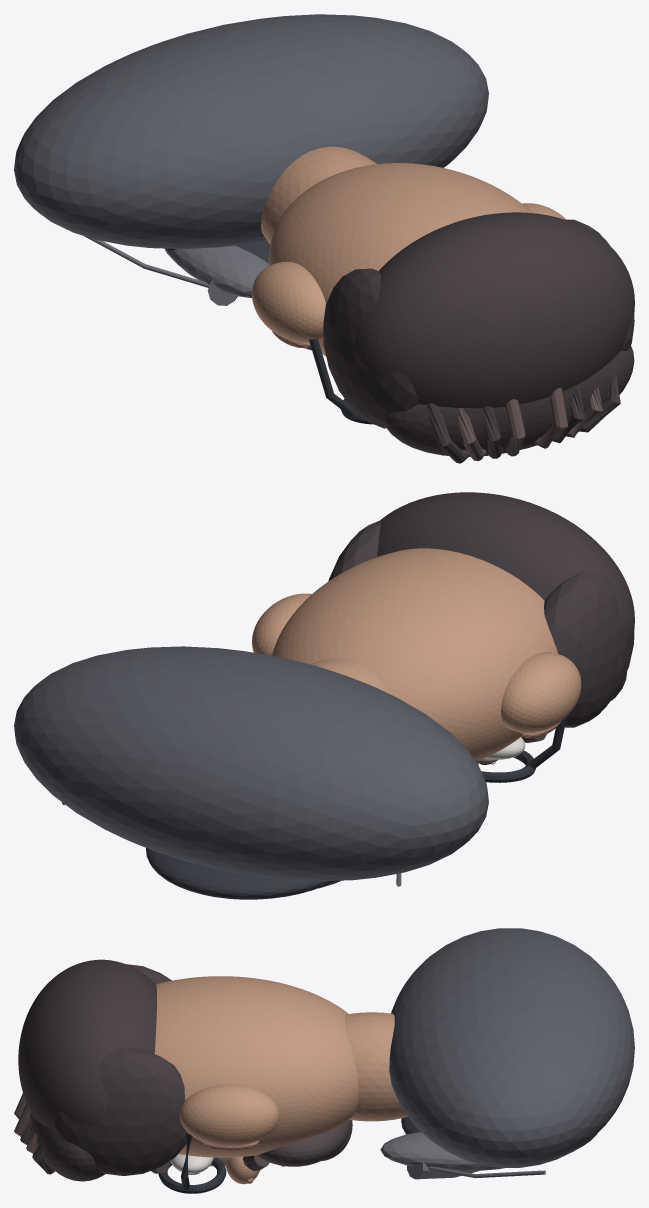
The model's file is portfolio_3d_avatar.glb.
3 views of the same model, one above another, from view 1: azimuth 30°, elevation 25°; view 2: azimuth 150°, elevation 25°; view 3: azimuth 270°, elevation 25° (orthographic). The views are drawn at different scales.
Parts seen in each view (by area): view 1: upper_body_jacket, hair_cap, head, side_hair_-1, hair_front_sweep, ear_-1, neck, left_lapel, hair_lock_-1_3, hair_lock_1_0, glasses_temple_-1, hair_lock_-1_0 (+4 smaller); view 2: upper_body_jacket, head, hair_cap, side_hair_-1, ear_-1, shirt_front, ear_1, side_hair_1, neck, glasses_rim_-1; view 3: upper_body_jacket, head, hair_cap, side_hair_1, ear_1, neck, right_lapel, hair_front_sweep, beard_jaw, glasses_rim_1, nose_tip, jacket_seam_1 (+2 smaller).
Boxes of the visible parts, <box> form: upper_body_jacket: <box>14,14,488,248</box>; hair_cap: <box>355,212,634,408</box>; head: <box>268,163,532,356</box>; side_hair_-1: <box>323,268,418,428</box>; hair_front_sweep: <box>382,346,634,456</box>; ear_-1: <box>252,261,325,342</box>; neck: <box>261,146,376,244</box>; left_lapel: <box>165,245,268,298</box>; hair_lock_-1_3: <box>426,403,469,463</box>; hair_lock_1_0: <box>534,388,567,448</box>; glasses_temple_-1: <box>309,338,355,416</box>; hair_lock_-1_0: <box>505,399,525,456</box>; upper_body_jacket: <box>14,646,488,881</box>; head: <box>272,548,557,760</box>; hair_cap: <box>377,492,634,643</box>; side_hair_-1: <box>544,572,634,727</box>; ear_-1: <box>501,652,581,732</box>; shirt_front: <box>146,848,335,899</box>; ear_1: <box>252,593,311,655</box>; side_hair_1: <box>328,520,380,581</box>; neck: <box>310,658,389,693</box>; glasses_rim_-1: <box>481,750,535,782</box>; upper_body_jacket: <box>389,928,634,1167</box>; head: <box>154,976,358,1157</box>; hair_cap: <box>18,959,156,1129</box>; side_hair_1: <box>53,1048,186,1175</box>; ear_1: <box>179,1084,279,1146</box>; neck: <box>345,1012,407,1121</box>; right_lapel: <box>380,1132,504,1170</box>; hair_front_sweep: <box>30,1112,105,1181</box>; beard_jaw: <box>257,1119,352,1166</box>; glasses_rim_1: <box>158,1157,226,1193</box>; nose_tip: <box>226,1156,259,1184</box>; jacket_seam_1: <box>428,1166,545,1178</box>.
Size of the model in its own units: 2.56 by 1.33 by 3.58.
